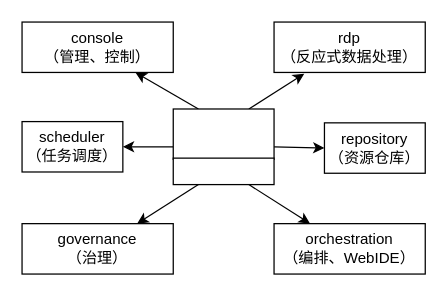
This 447x296 diagram has some shape labels left out. Here are the shapes that lost their labels. From the top down, the centre of each, then its label:
At pixel 223 133: "Broker".
At pixel 223 171: "engine".
